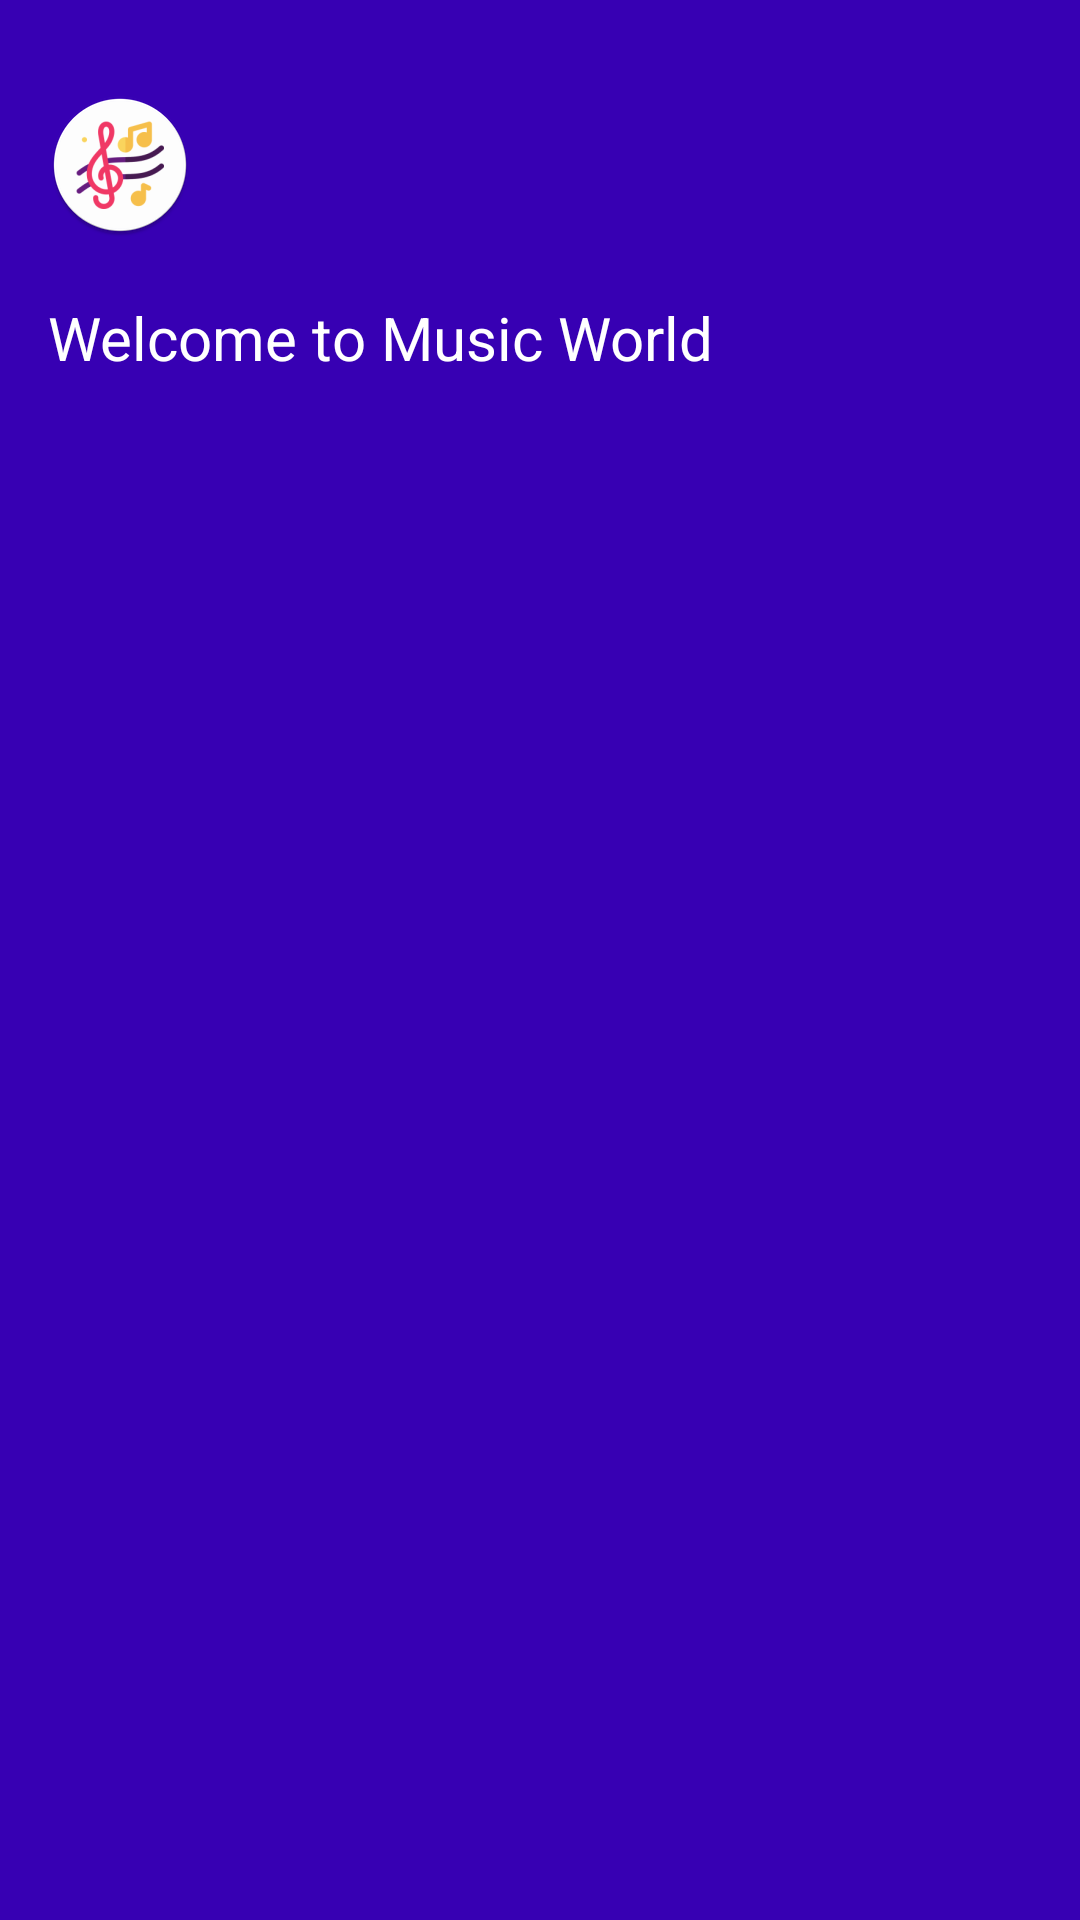

Named icons in this screenshot (1080 x 1920) and their bounding boxes, (x1, y1, x2, y2):
App Icon: (53, 98, 187, 234)
